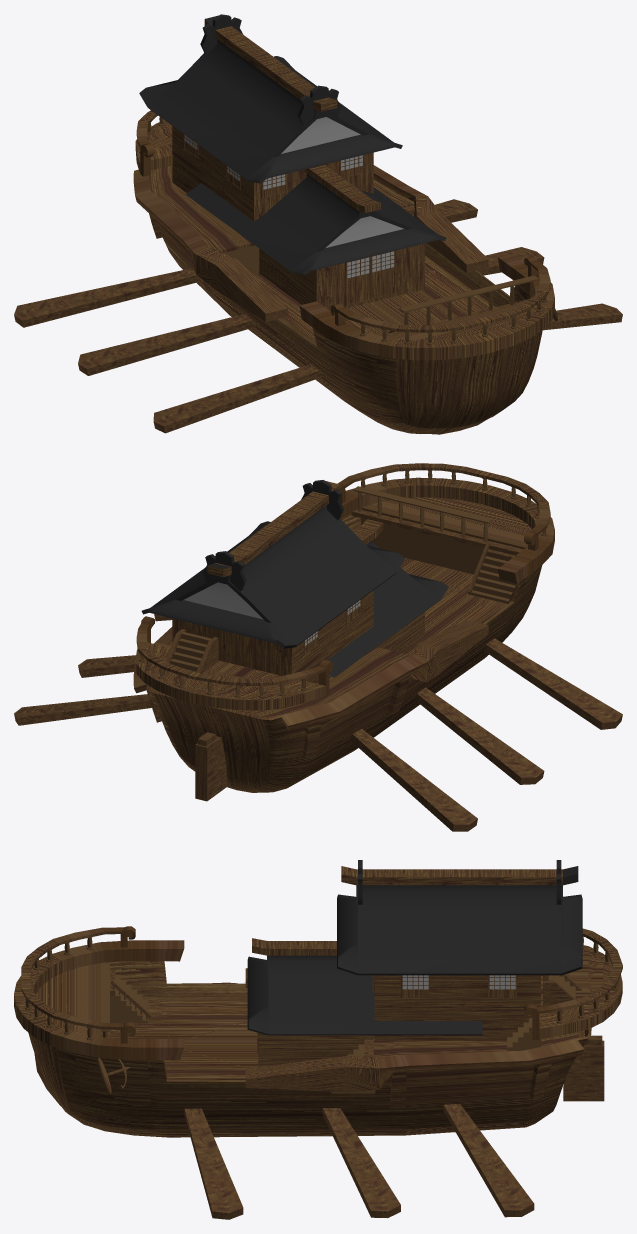
File: palanquin.obj
3 views of the same model, one above another, from view 1: azimuth 30°, elevation 25°; view 2: azimuth 150°, elevation 25°; view 3: azimuth 270°, elevation 25° (orthographic).
Parts seen in each view (by area): view 1: _mesh_Untitled; view 2: _mesh_Untitled; view 3: _mesh_Untitled.
Part boxes in pixels (x1=…): _mesh_Untitled: x1=14, y1=14, x2=622, y2=434; _mesh_Untitled: x1=14, y1=463, x2=622, y2=831; _mesh_Untitled: x1=14, y1=860, x2=622, y2=1219.
Bounding box in the file's own units: 32.14 × 17.13 × 35.88.
